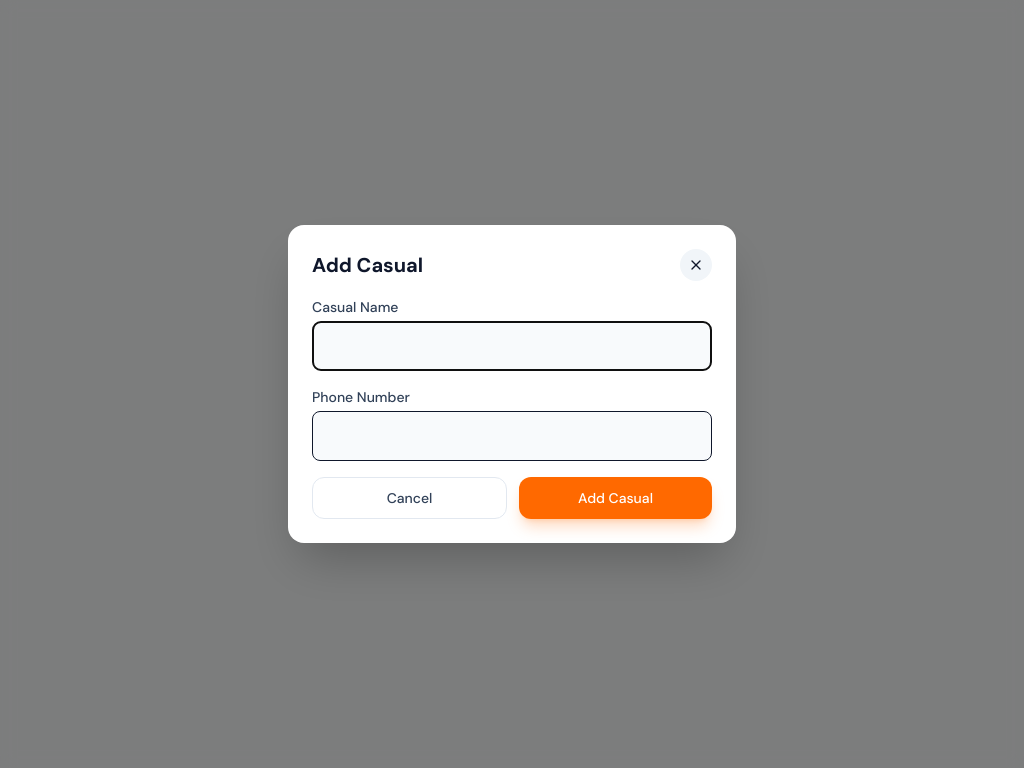
Test: AddCasualModal › validation › shows error when name is empty
This screenshot has width=1024, height=768.
# Fill phone but leave name empty
Type "0412345678" into the field labelled "Phone Number" at (512, 436), box [312,411,712,461]
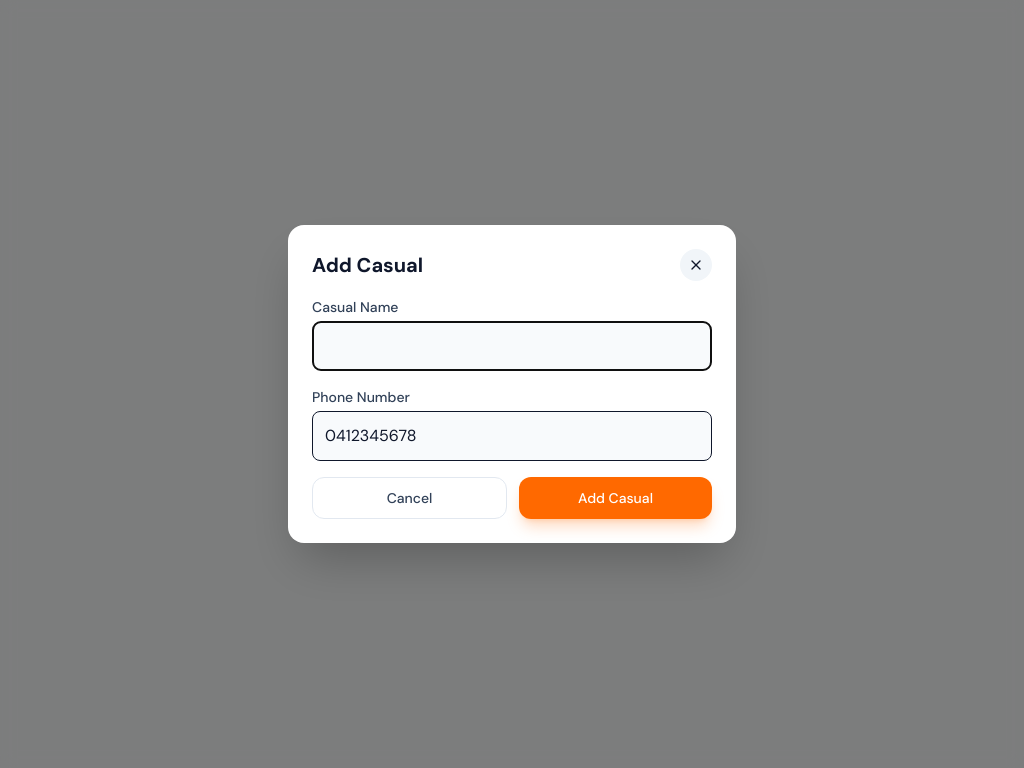
Click the button "Add Casual" at (616, 498), box [519,477,712,519]
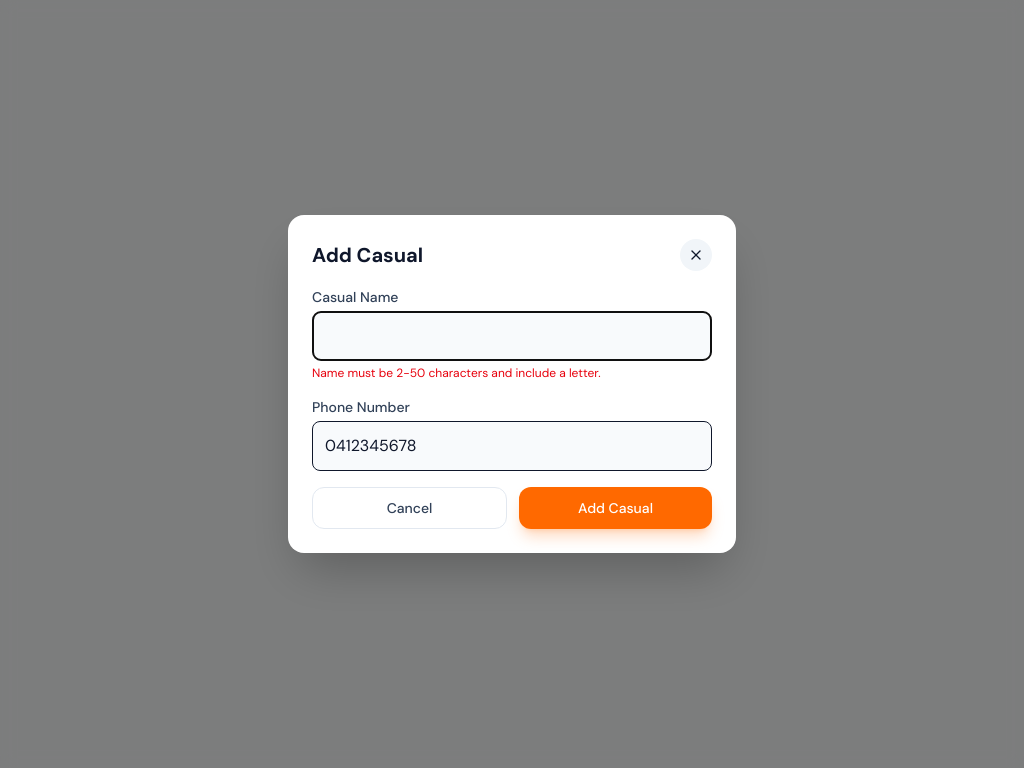
Now the text "Name must be 2-50 characters and include a letter." is shown, box [312,365,601,381]
